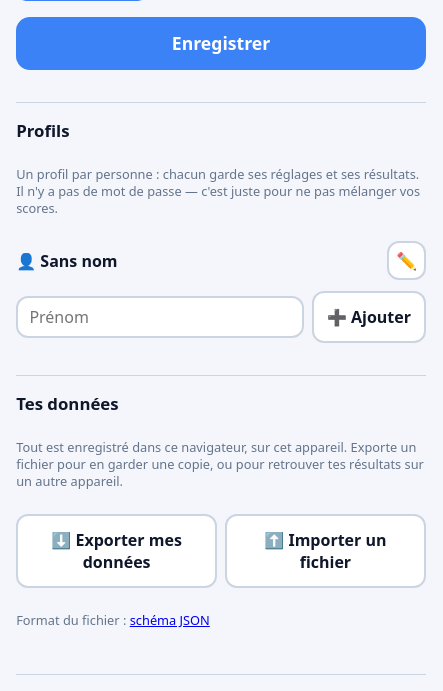
Test case: SettingsScreen — export › downloads a dated .json file built from the profile
(page scrolled)
Click the button "⬇️ Exporter mes données" at coordinates (117, 551), box 16,514 -> 217,588
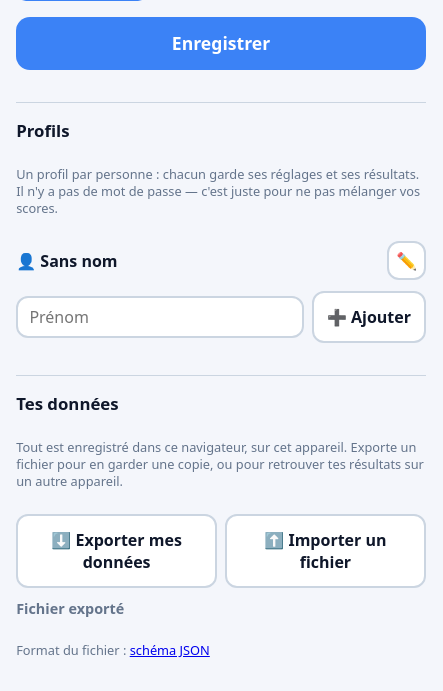
Expected: the text "Fichier exporté" is shown, 16,599 -> 124,618
